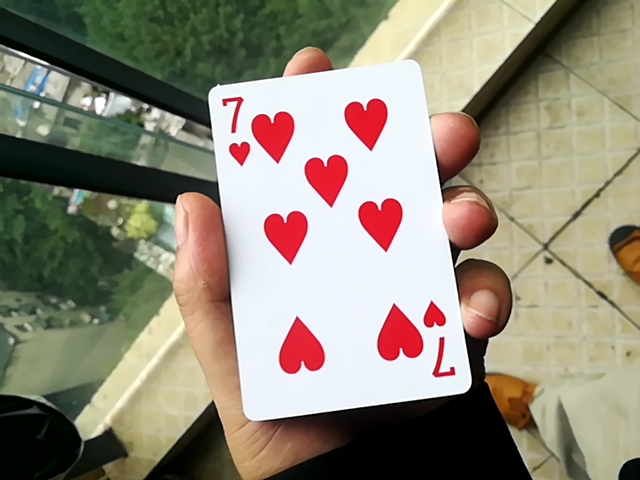hx 7: (208, 45, 459, 425)
